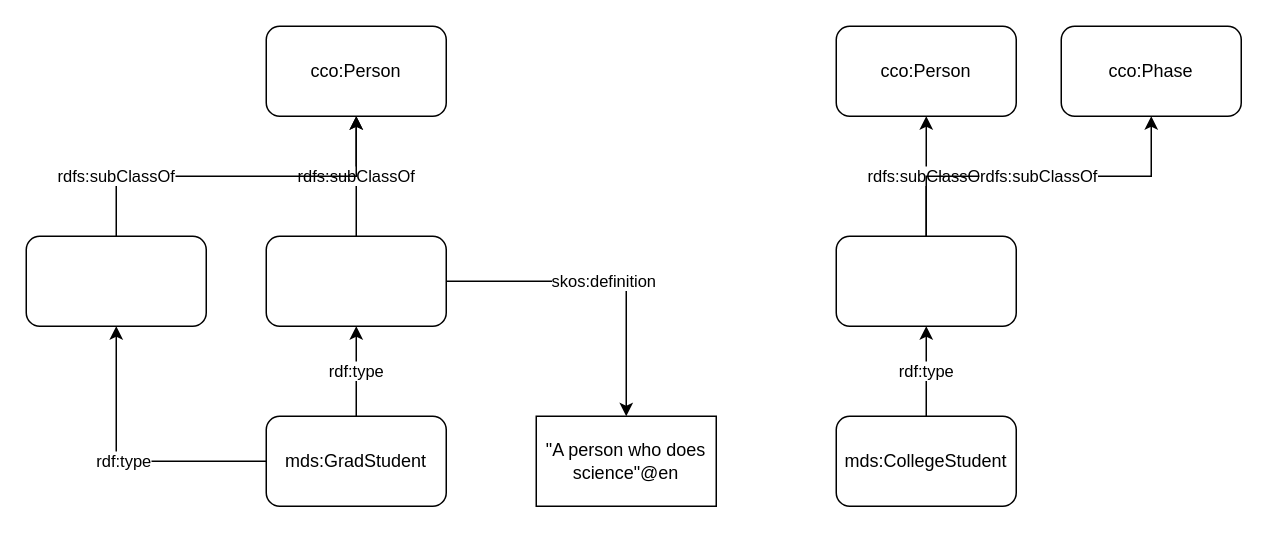
Image size: 1268x533. Some labels were removed from this diagram. Each missing label, with the box of its shape:
mds:Employee: (25, 235, 206, 326)
mds:Student: (265, 235, 446, 326)
mds:Teenager: (835, 235, 1016, 326)
